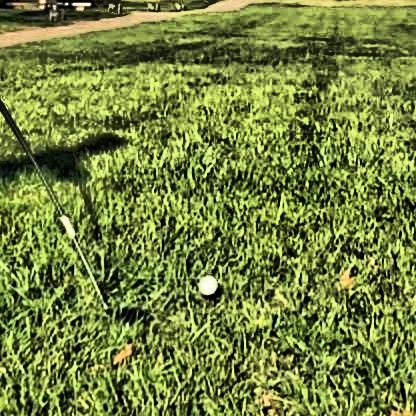golfball: (196, 271, 217, 292)
